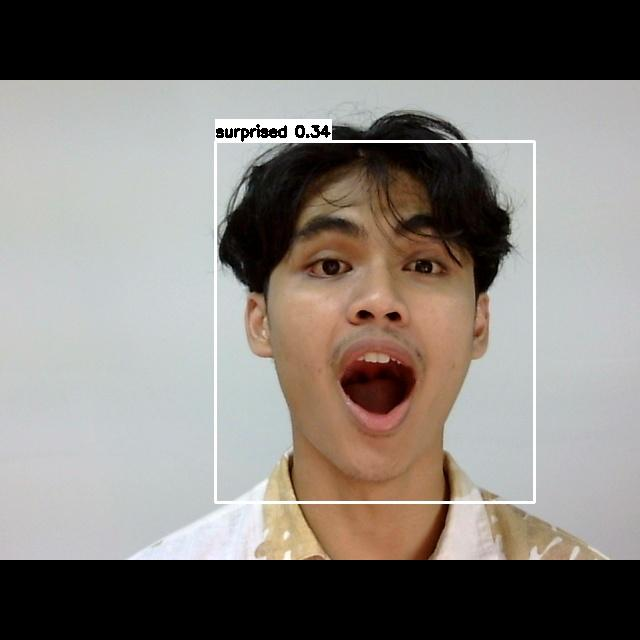Surprised: (259, 198, 479, 462)
